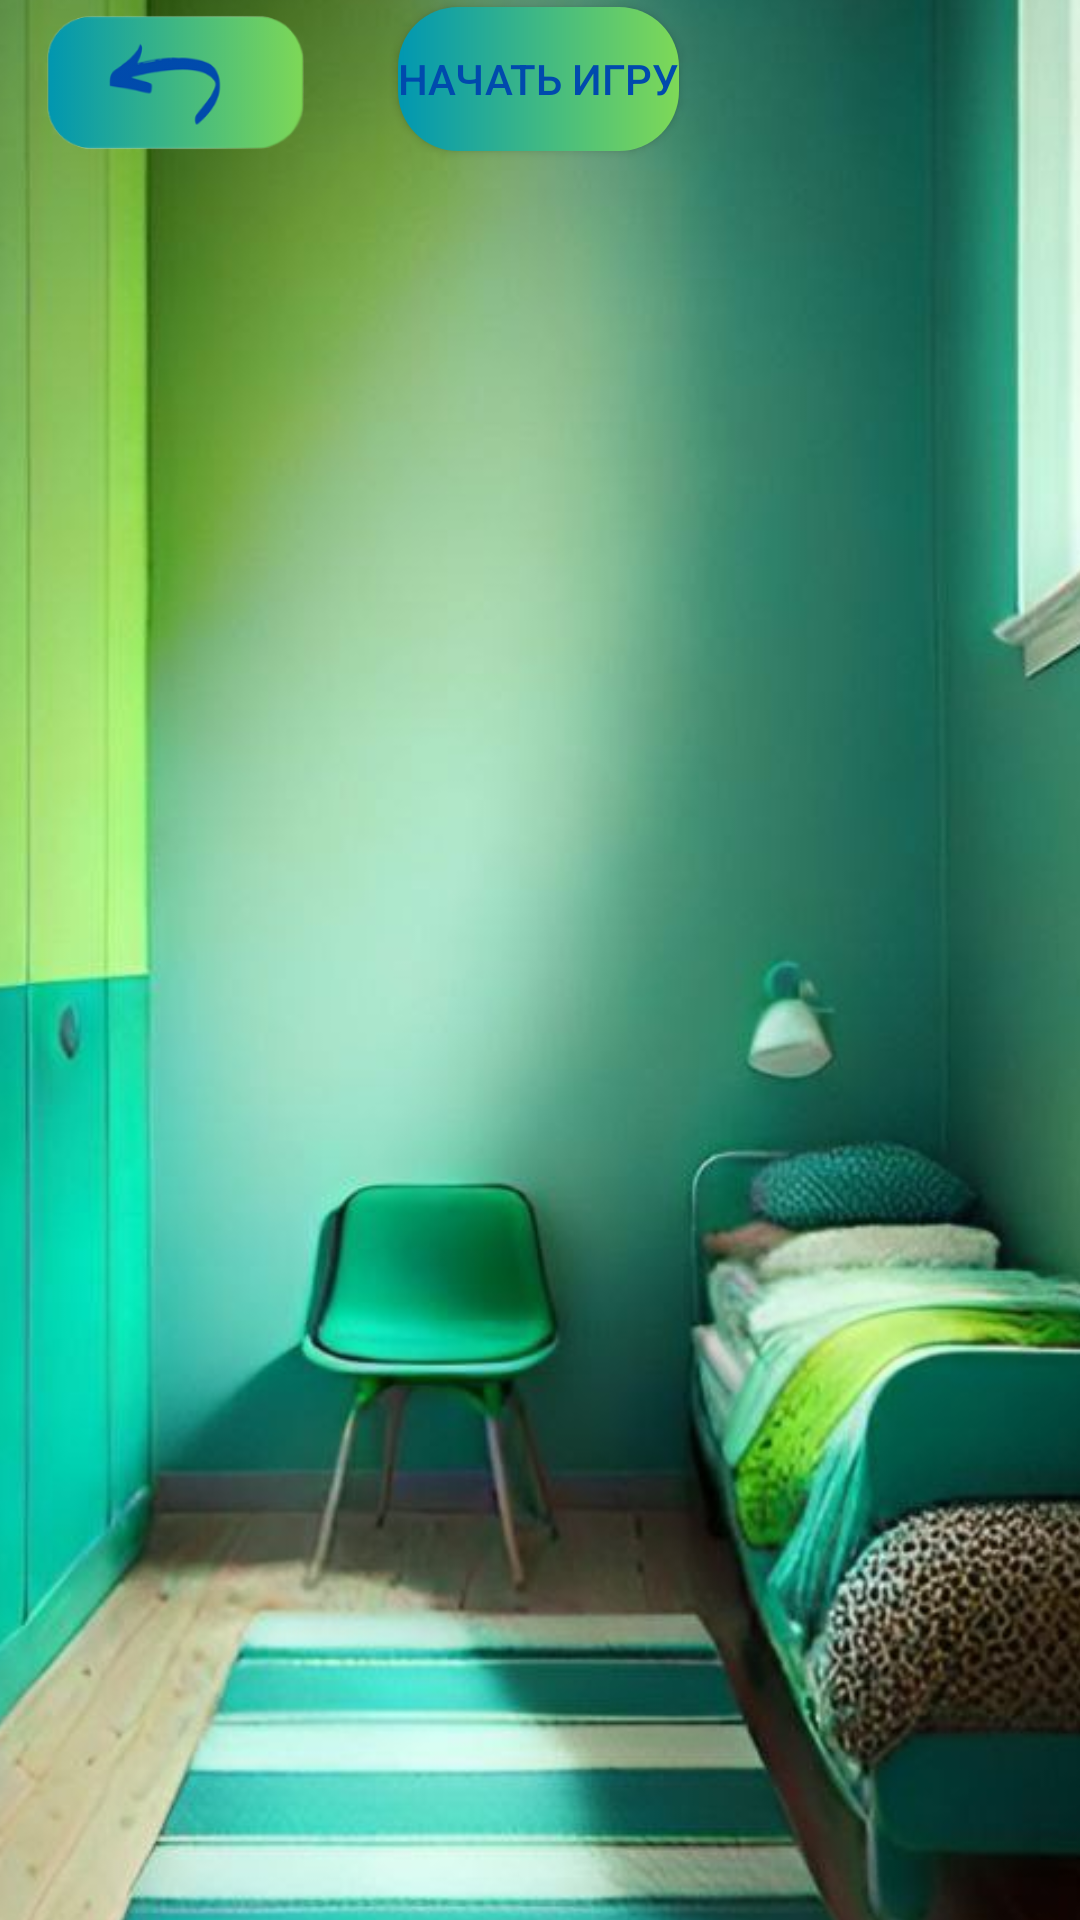

Icon bounding boxes for this 1080×1920 phone screenshot, format (x1, y1, x2, y2):
back: (0, 0, 303, 165)
